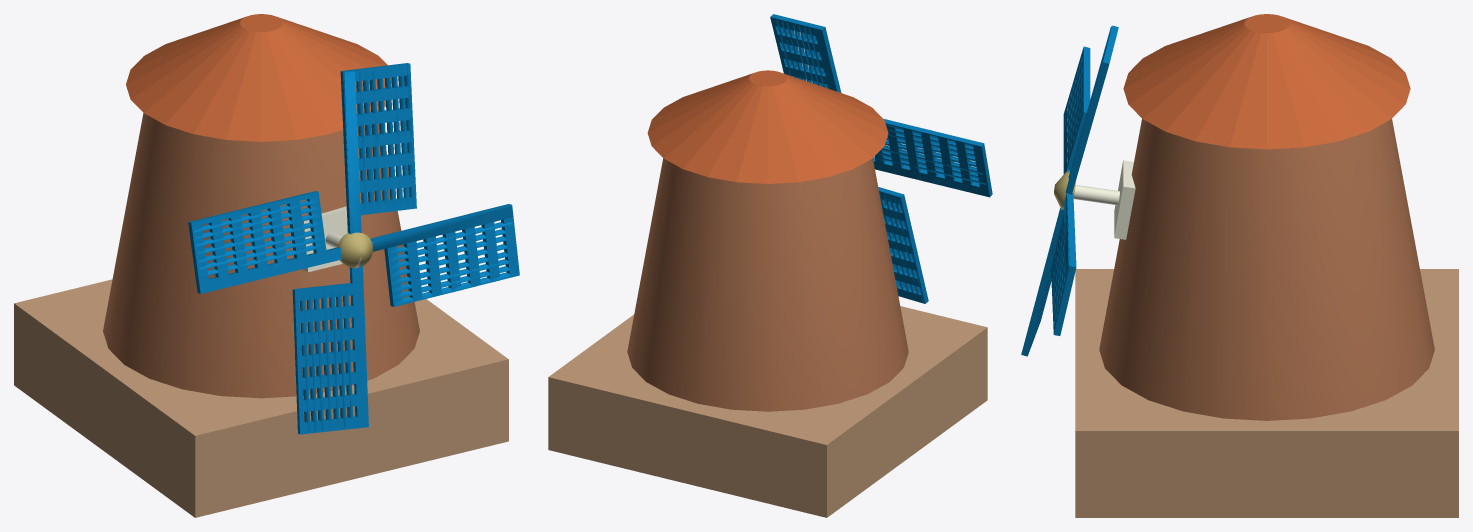
File: Windmill.fbx
3 views of the same model, side by side, from view 1: azimuth 30°, elevation 25°; view 2: azimuth 150°, elevation 25°; view 3: azimuth 270°, elevation 25° (orthographic). The views are drawn at different scales.
Visible parts, largest first — view 1: Windmill:Body, Windmill:Fan, Windmill:Axis; view 2: Windmill:Body, Windmill:Fan; view 3: Windmill:Body, Windmill:Fan, Windmill:Axis.
Part boxes in pixels (left/top/right/bottom): Windmill:Body: left=14, top=14, right=508, bottom=517; Windmill:Fan: left=188, top=63, right=519, bottom=434; Windmill:Axis: left=302, top=206, right=372, bottom=272; Windmill:Body: left=548, top=70, right=987, bottom=517; Windmill:Fan: left=770, top=14, right=992, bottom=303; Windmill:Body: left=1075, top=14, right=1458, bottom=517; Windmill:Fan: left=1021, top=25, right=1118, bottom=356; Windmill:Axis: left=1054, top=160, right=1135, bottom=239.
Bounding box in the file's own units: 802 × 957 × 913.
